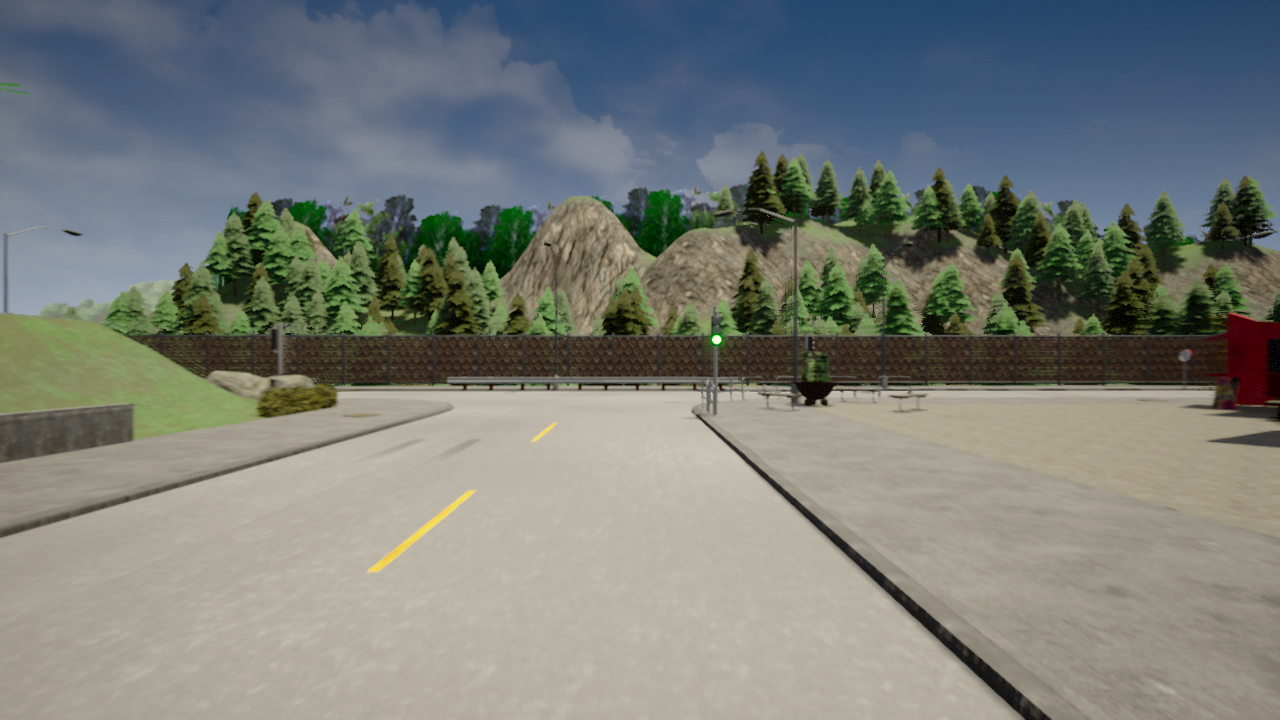green: (709, 314, 724, 346)
